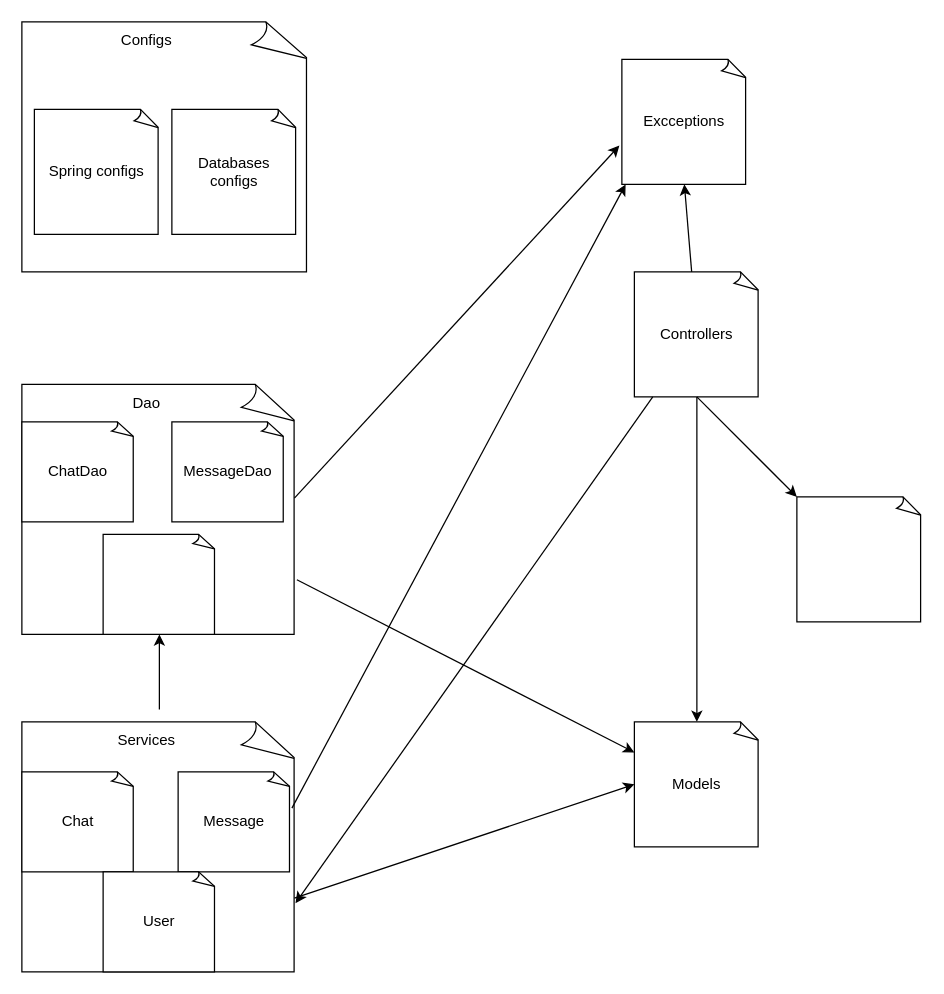
The diagram is 944 pixels wide and 994 high, and some of its shapes have lost their labels. Each missing label, with the centre of its shape:
UserDao: (x=159, y=583)
Utils: (x=859, y=559)
